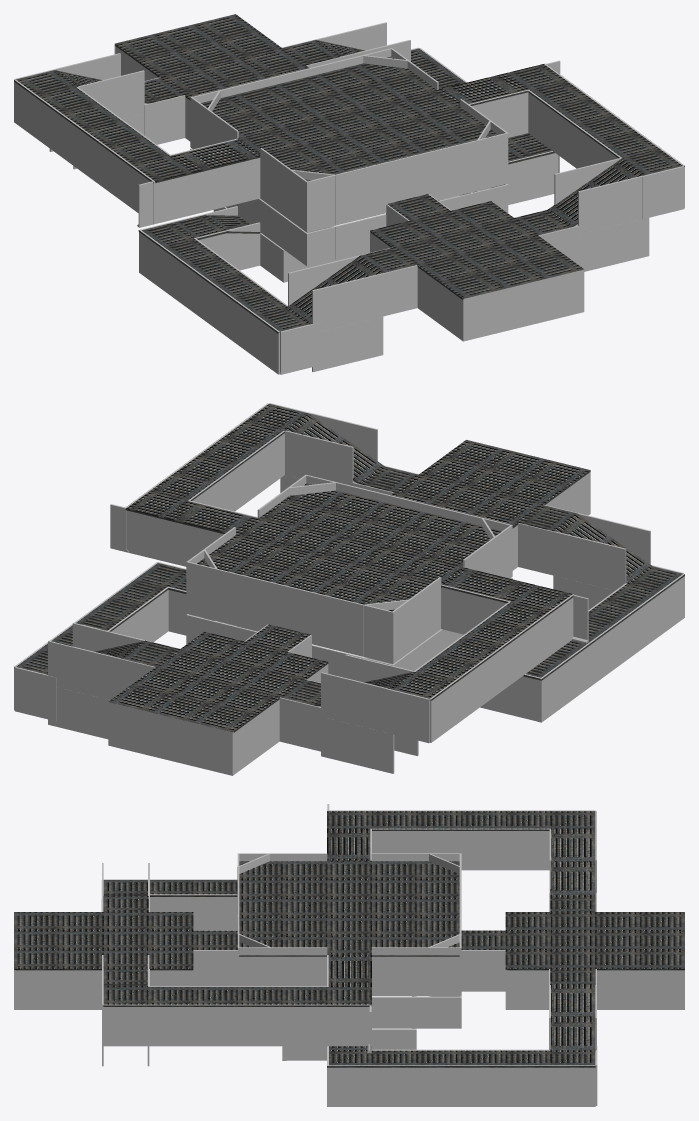
The model's file is BetaMapWalls.fbx.
3 renders of one model, top to bottom at view 1: azimuth 30°, elevation 25°; view 2: azimuth 150°, elevation 25°; view 3: azimuth 270°, elevation 25°, orthographic. The views are drawn at different scales.
Parts seen in each view (by area): view 1: Walls; view 2: Walls; view 3: Walls.
Boxes of the visible parts, x1=… form: Walls: x1=14, y1=14, x2=684, y2=374; Walls: x1=14, y1=403, x2=684, y2=775; Walls: x1=14, y1=804, x2=684, y2=1106.
Size of the model in its own units: 55.06 by 14.56 by 75.06.
